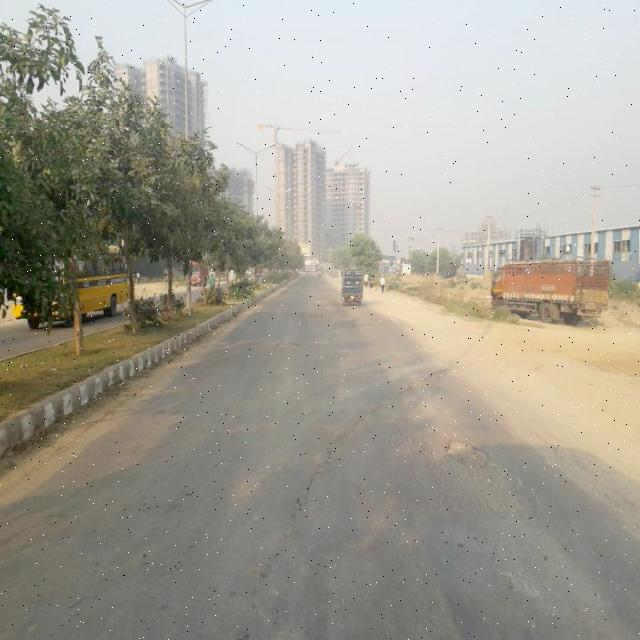D20: (380, 425, 534, 507)
D40: (443, 430, 502, 474), (262, 332, 310, 358)
